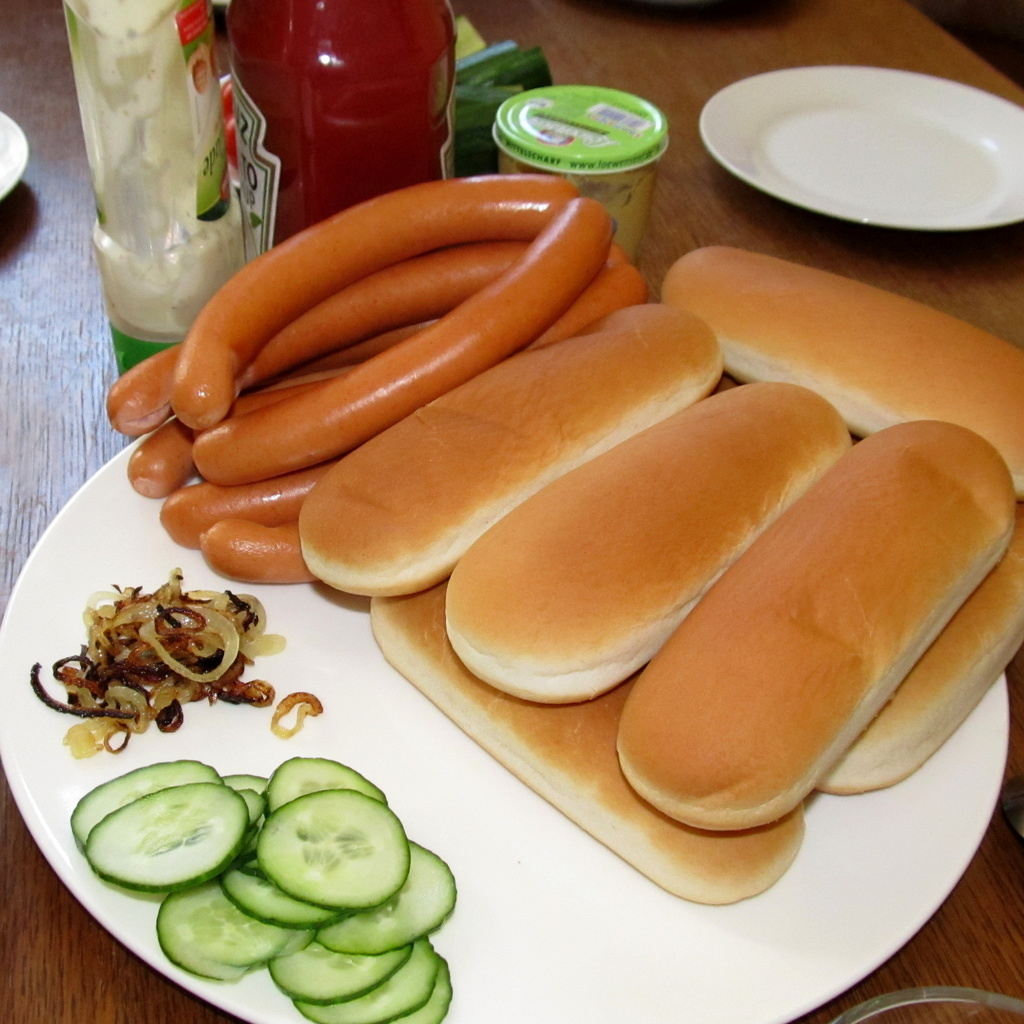plate: (697, 65, 1023, 232)
